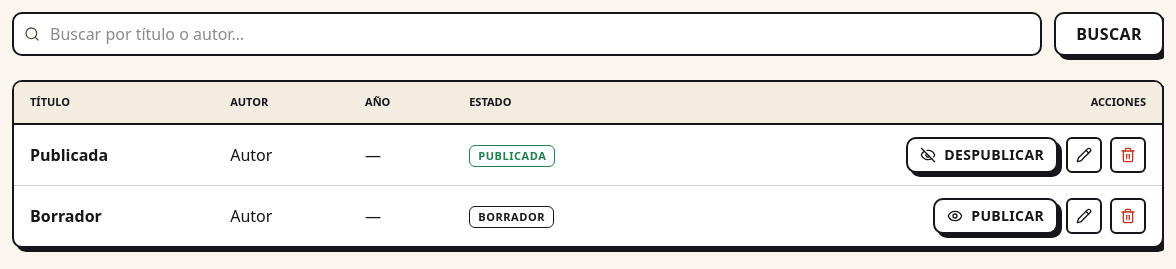
it: CurationList › publica un borrador sin recargar la lista
The image size is (1176, 269).
Click the button with aria-label "Publicar Borrador" at (996, 216), box [933,198,1058,234]
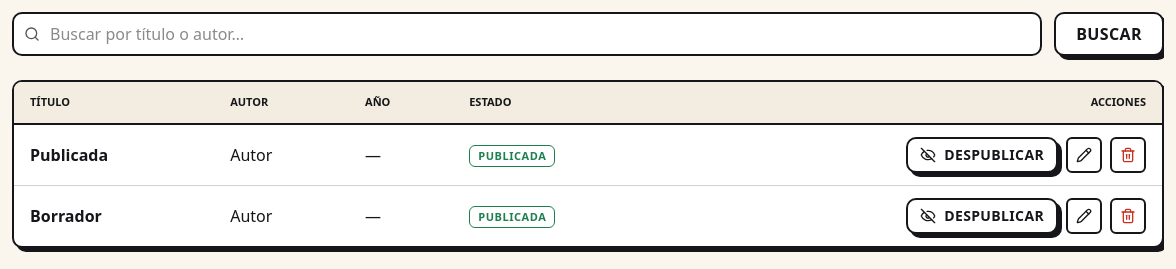
Result: the button with aria-label "Despublicar Borrador" is shown at [906,198,1058,234]
